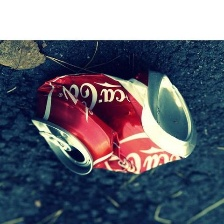can: (25, 60, 200, 177)
